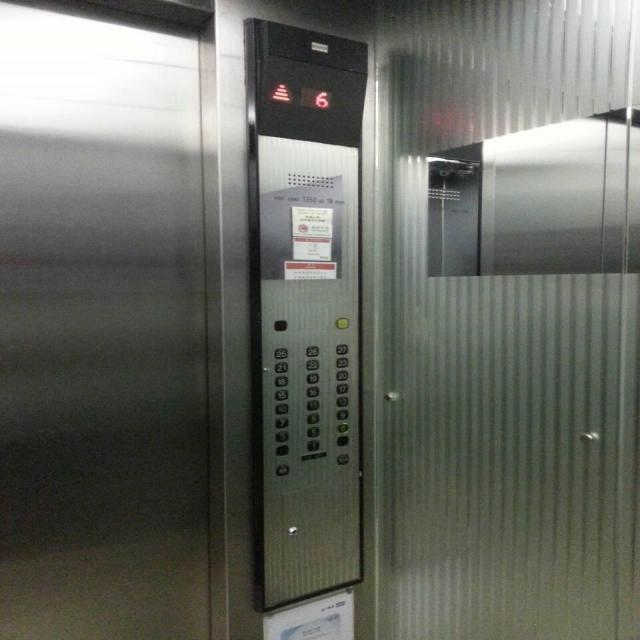1: (305, 439, 320, 451)
10: (274, 402, 290, 414)
11: (305, 398, 320, 410)
12: (334, 395, 349, 407)
15: (273, 388, 289, 400)
16: (305, 385, 319, 397)
17: (334, 382, 349, 394)
18: (273, 374, 289, 386)
19: (305, 372, 319, 384)
20: (335, 368, 349, 381)
21: (272, 361, 288, 373)
22: (305, 358, 319, 370)
23: (334, 356, 349, 368)
25: (272, 346, 288, 359)
26: (305, 344, 319, 356)
27: (334, 342, 349, 354)
3: (274, 429, 290, 442)
5: (305, 425, 320, 437)
6: (335, 422, 349, 434)
7: (274, 416, 290, 428)
8: (305, 412, 320, 424)
9: (334, 408, 349, 420)
alarm: (335, 316, 349, 328)
close: (335, 452, 349, 464)
empty: (274, 443, 290, 456), (273, 319, 287, 331), (335, 434, 349, 446)
led: (266, 80, 356, 112)
open: (274, 463, 290, 476)
